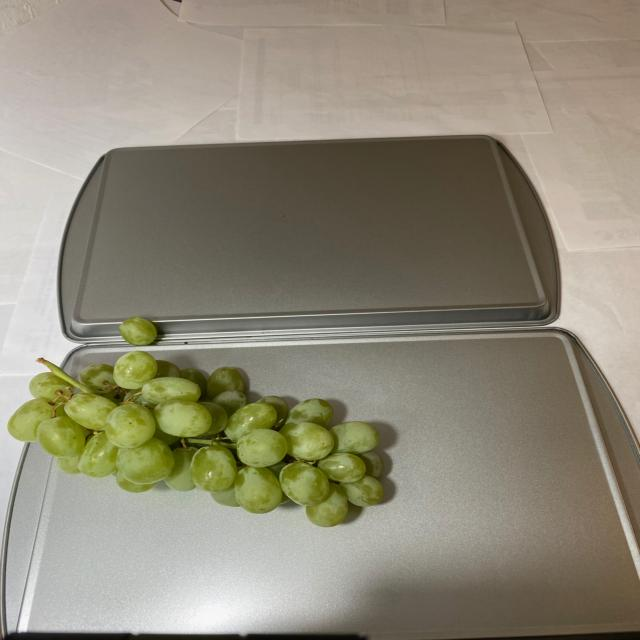Grapes: (20, 315, 397, 520)
